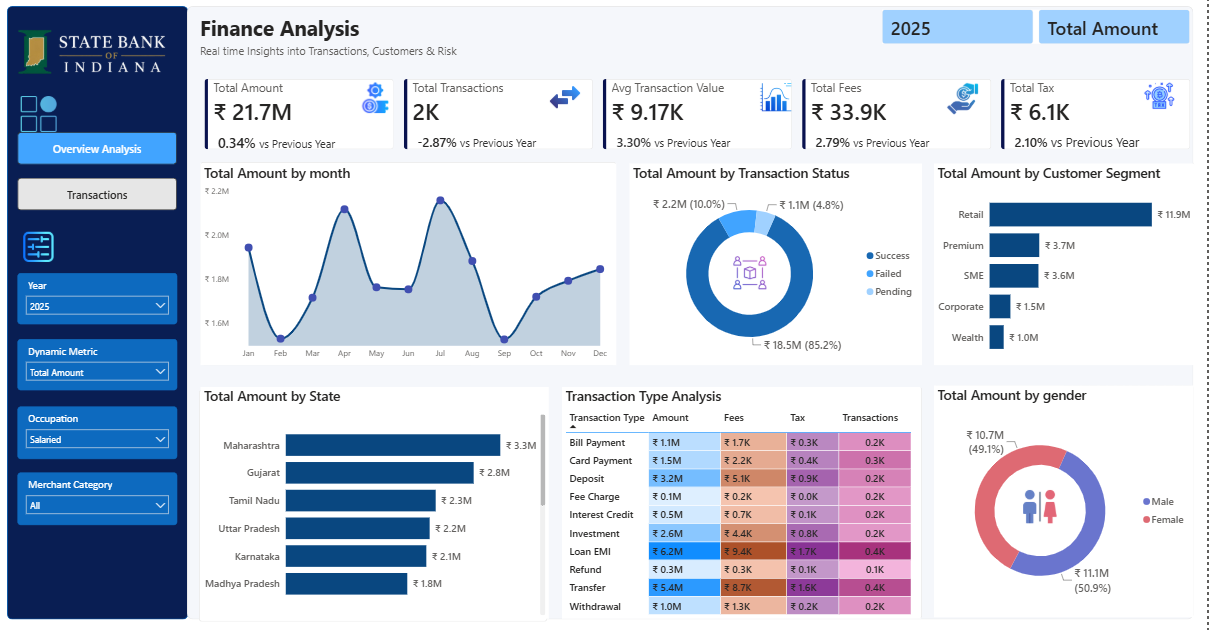

The page's visual inventory and layout, read from the dashboard file:
{"tool":"powerbi","page":{"name":"Overview Analysis","canvas":[1800,950],"ordinal":0},"visuals":[{"type":"cardVisual","fields":{"Data":["finance_transactions.Total Amount","finance_transactions.Total Transactions","finance_transactions.Avg Transaction Value","finance_transactions.Total Fees","finance_transactions.Total Tax"]},"box":[307.9,120.9,1473.2,116.3],"z":0,"group":"g1"},{"type":"shape","box":[1395.6,248.6,385.4,301],"z":0},{"type":"image","box":[1133.3,130,56.1,47.9],"z":1000,"group":"g1"},{"type":"shape","box":[946.4,248.6,433.3,301],"z":1000},{"type":"shape","box":[21.3,18.6,268.4,908.9],"z":2000},{"type":"image","box":[1696.9,125.5,63.1,52.4],"z":2000,"group":"g1"},{"type":"shape","box":[289.7,18.6,1490.9,908.9],"z":3000},{"type":"image","box":[541.7,132.3,51.4,45.6],"z":3000,"group":"g1"},{"type":"image","box":[1411.6,132.3,49.1,47.9],"z":4000,"group":"g1"},{"type":"image","box":[38,134.1,62.6,69.3],"z":4000},{"type":"cardVisual","fields":{"Data":["customers.Dashboard Title"]},"box":[290.7,19.7,421.8,83.1],"z":5000},{"type":"image","box":[822.3,130,53.8,47.9],"z":5000,"group":"g1"},{"type":"slicer","fields":{"Values":["calendar.year"]},"box":[38,413.5,236.9,76],"z":6000},{"type":"image","box":[525.3,585.6,134.1,122.9],"z":7000},{"type":"image","box":[38,2.2,225.7,156.5],"z":8000},{"type":"slicer","fields":{"Values":["Dynamic  Metric.Dynamic  Metric"]},"box":[38,511.8,236.9,76],"z":9000},{"type":"shape","box":[307.9,248.6,615.7,301],"z":10000},{"type":"group","id":"g1","title":"Group 1","box":[307.9,120.9,1473.2,116.3],"z":11000},{"type":"areaChart","fields":{"Y":["finance_transactions.Total Amount"],"Category":["calendar.month"]},"box":[307.9,250.8,615.7,298.7],"z":12000},{"type":"cardVisual","fields":{"Data":["calendar.selected Year","calendar.Selected Dynamic measure"]},"box":[1313.5,18.2,467.5,61.6],"z":13000},{"type":"donutChart","fields":{"Y":["finance_transactions.Total Amount"],"Category":["finance_transactions.transaction_status"]},"box":[944.1,250.8,433.3,298.7],"z":14000},{"type":"barChart","fields":{"Y":["finance_transactions.Total Amount"],"Category":["customers.customer_segment"]},"box":[1395.6,250.8,385.4,298.7],"z":15000},{"type":"shape","box":[306,585.8,515.8,343.1],"z":16000},{"type":"barChart","fields":{"Y":["finance_transactions.Total Amount"],"Category":["customers.state"]},"box":[308.2,581.4,515.8,343.1],"z":17000},{"type":"shape","box":[843.7,581.4,533.3,343.1],"z":18000},{"type":"tableEx","title":"Transaction Type Analysis","fields":{"Values":["finance_transactions.transaction_type","finance_transactions.Total Amount","finance_transactions.Total Fees","finance_transactions.Total Tax","finance_transactions.Total Transactions"]},"box":[843.7,581.4,531.1,343.1],"z":19000},{"type":"shape","box":[1396.6,579.2,384.7,343.1],"z":20000},{"type":"donutChart","fields":{"Y":["finance_transactions.Total Amount"],"Category":["customers.gender"]},"box":[1396.6,579.2,384.7,343.1],"z":21000},{"type":"image","box":[1514.6,730,74.3,56.8],"z":22000},{"type":"image","box":[1084.1,386.9,76.5,52.5],"z":23000},{"type":"slicer","fields":{"Values":["customers.occupation"]},"box":[38,610.2,236.9,78.2],"z":24000},{"type":"slicer","fields":{"Values":["finance_transactions.merchant_category"]},"box":[38,708.5,236.9,78.2],"z":25000},{"type":"pageNavigator","box":[38,203.4,236.9,116.2],"z":26000},{"type":"image","box":[38,330.8,62.6,69.3],"z":27000}]}

Visuals, with their boxes on the page's 1800x950 design canvas (x1, y1, x2, y2). These are canvas units, not pixel positions in the 1209x630 screenshot, which may show the page scaled, cropped or inside an application window:
cardVisual - finance_transactions.Total Amount x finance_transactions.Total Transactions: {"left": 308, "top": 121, "right": 1781, "bottom": 237}
shape: {"left": 1396, "top": 249, "right": 1781, "bottom": 550}
image: {"left": 1133, "top": 130, "right": 1189, "bottom": 178}
shape: {"left": 946, "top": 249, "right": 1380, "bottom": 550}
shape: {"left": 21, "top": 19, "right": 290, "bottom": 928}
image: {"left": 1697, "top": 126, "right": 1760, "bottom": 178}
shape: {"left": 290, "top": 19, "right": 1781, "bottom": 928}
image: {"left": 542, "top": 132, "right": 593, "bottom": 178}
image: {"left": 1412, "top": 132, "right": 1461, "bottom": 180}
image: {"left": 38, "top": 134, "right": 101, "bottom": 203}
cardVisual - customers.Dashboard Title: {"left": 291, "top": 20, "right": 712, "bottom": 103}
image: {"left": 822, "top": 130, "right": 876, "bottom": 178}
slicer - calendar.year: {"left": 38, "top": 414, "right": 275, "bottom": 490}
image: {"left": 525, "top": 586, "right": 659, "bottom": 708}
image: {"left": 38, "top": 2, "right": 264, "bottom": 159}
slicer - Dynamic  Metric.Dynamic  Metric: {"left": 38, "top": 512, "right": 275, "bottom": 588}
shape: {"left": 308, "top": 249, "right": 924, "bottom": 550}
"Group 1" group: {"left": 308, "top": 121, "right": 1781, "bottom": 237}
areaChart - finance_transactions.Total Amount x calendar.month: {"left": 308, "top": 251, "right": 924, "bottom": 550}
cardVisual - calendar.selected Year x calendar.Selected Dynamic measure: {"left": 1314, "top": 18, "right": 1781, "bottom": 80}
donutChart - finance_transactions.Total Amount x finance_transactions.transaction_status: {"left": 944, "top": 251, "right": 1377, "bottom": 550}
barChart - finance_transactions.Total Amount x customers.customer_segment: {"left": 1396, "top": 251, "right": 1781, "bottom": 550}
shape: {"left": 306, "top": 586, "right": 822, "bottom": 929}
barChart - finance_transactions.Total Amount x customers.state: {"left": 308, "top": 581, "right": 824, "bottom": 924}
shape: {"left": 844, "top": 581, "right": 1377, "bottom": 924}
"Transaction Type Analysis" tableEx: {"left": 844, "top": 581, "right": 1375, "bottom": 924}
shape: {"left": 1397, "top": 579, "right": 1781, "bottom": 922}
donutChart - finance_transactions.Total Amount x customers.gender: {"left": 1397, "top": 579, "right": 1781, "bottom": 922}
image: {"left": 1515, "top": 730, "right": 1589, "bottom": 787}
image: {"left": 1084, "top": 387, "right": 1161, "bottom": 439}
slicer - customers.occupation: {"left": 38, "top": 610, "right": 275, "bottom": 688}
slicer - finance_transactions.merchant_category: {"left": 38, "top": 708, "right": 275, "bottom": 787}
pageNavigator: {"left": 38, "top": 203, "right": 275, "bottom": 320}
image: {"left": 38, "top": 331, "right": 101, "bottom": 400}
